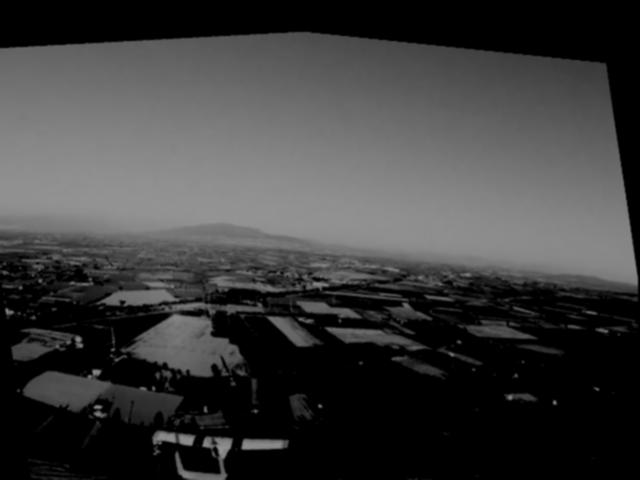hedef: (138, 398, 301, 480)
